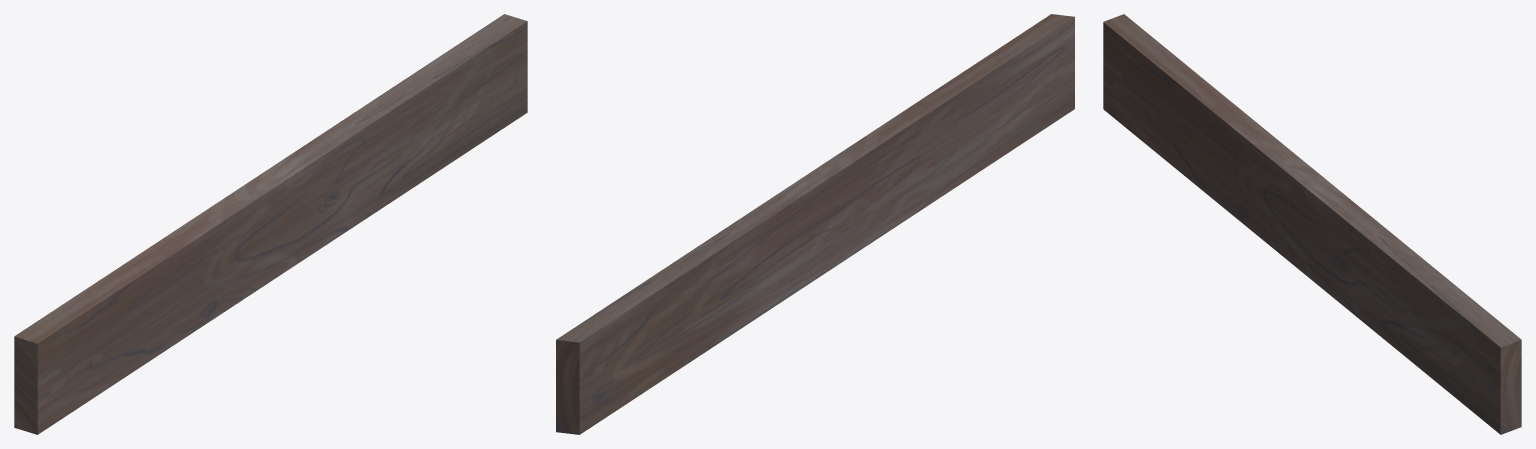
Rendered from long_board_020.fbx.
3 views of the same model, side by side, from view 1: azimuth 30°, elevation 25°; view 2: azimuth 210°, elevation 25°; view 3: azimuth 270°, elevation 25° (orthographic). The views are drawn at different scales.
Visible parts, largest first — view 1: long board.020; view 2: long board.020; view 3: long board.020.
Part boxes in pixels (x1,y1,x2,y2): long board.020: (14,14,527,434); long board.020: (556,14,1074,434); long board.020: (1103,14,1521,434).
Size of the model in its own units: 82.71 by 10.41 by 44.13.
